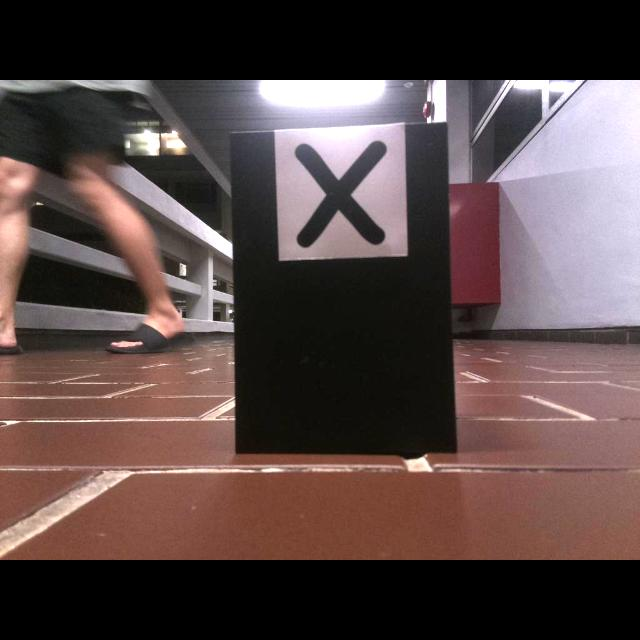X: (296, 141, 387, 247)
